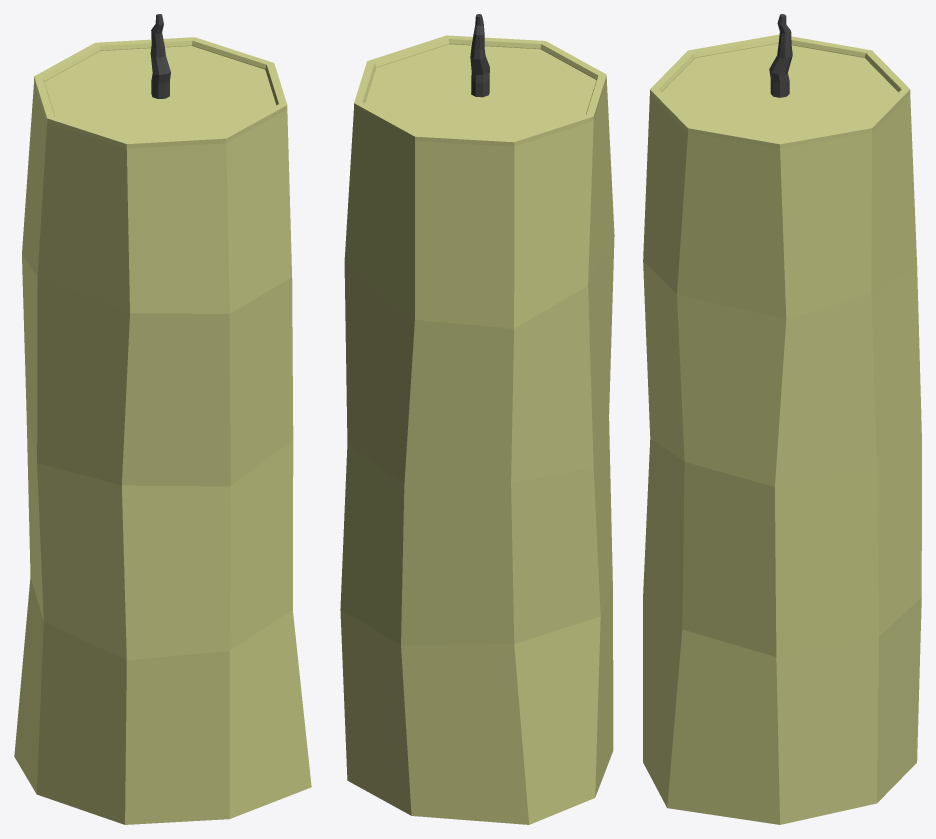
Rendered from candle.fbx.
The picture shows the model from 3 angles, left to right: view 1: azimuth 30°, elevation 25°; view 2: azimuth 150°, elevation 25°; view 3: azimuth 270°, elevation 25°; orthographic projection.
Parts seen in each view (by area): view 1: Cylinder.002; view 2: Cylinder.002; view 3: Cylinder.002.
Part boxes in pixels (bbox=[...]): Cylinder.002: bbox=[14, 14, 311, 824]; Cylinder.002: bbox=[340, 14, 614, 824]; Cylinder.002: bbox=[643, 14, 921, 824].
Size of the model in its own units: 15.27 by 44.23 by 14.95.
